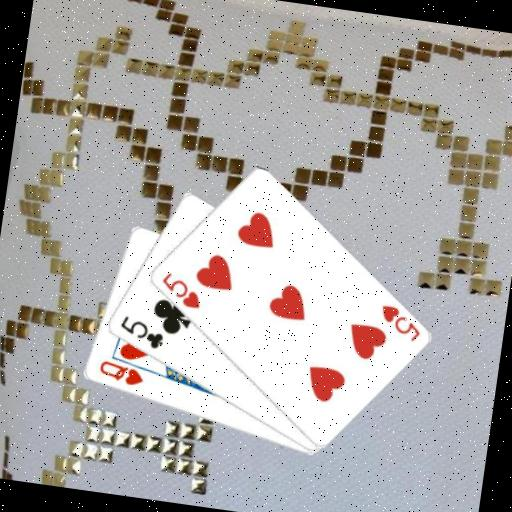5C: (114, 312, 168, 352)
5H: (374, 301, 425, 345), (155, 268, 205, 311)
QH: (94, 357, 146, 389)
